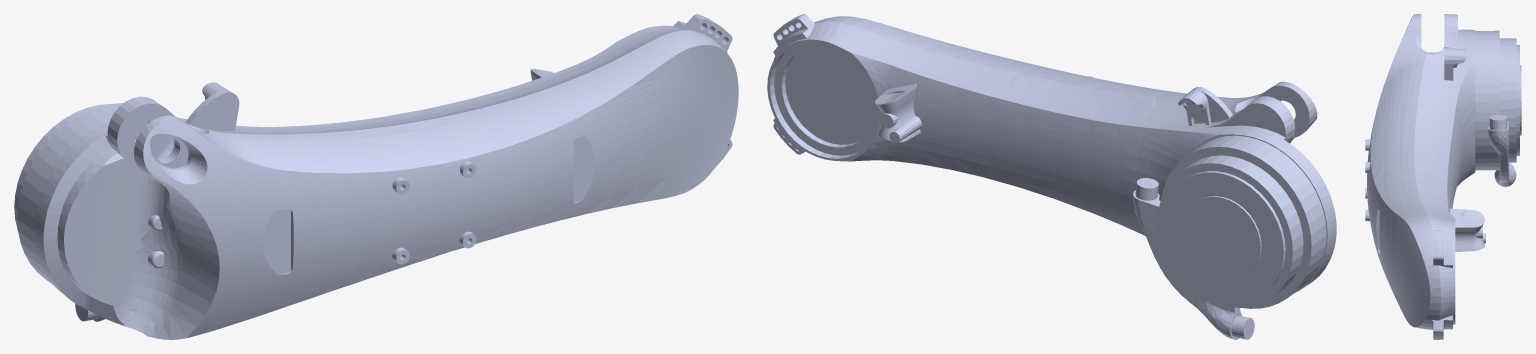
3 renders of one model, left to right at view 1: azimuth 30°, elevation 25°; view 2: azimuth 150°, elevation 25°; view 3: azimuth 270°, elevation 25°, orthographic. The views are drawn at different scales.
Visible parts, largest first — view 1: node0; view 2: node0; view 3: node0.
Boxes of the visible parts, left/top/right/bottom form: node0: left=14, top=14, right=738, bottom=339; node0: left=767, top=14, right=1336, bottom=339; node0: left=1365, top=14, right=1521, bottom=339.
Size of the model in its own units: 1.51 by 0.443 by 0.5322.
